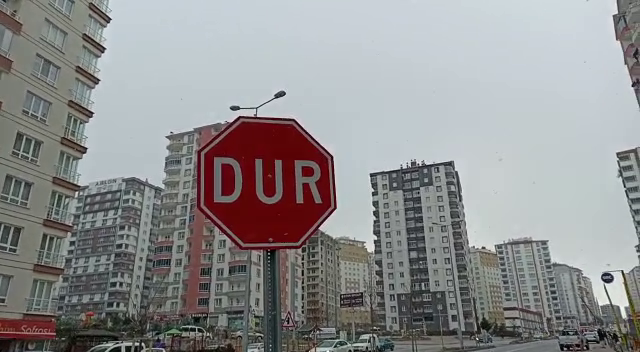stop: (193, 114, 339, 253)
